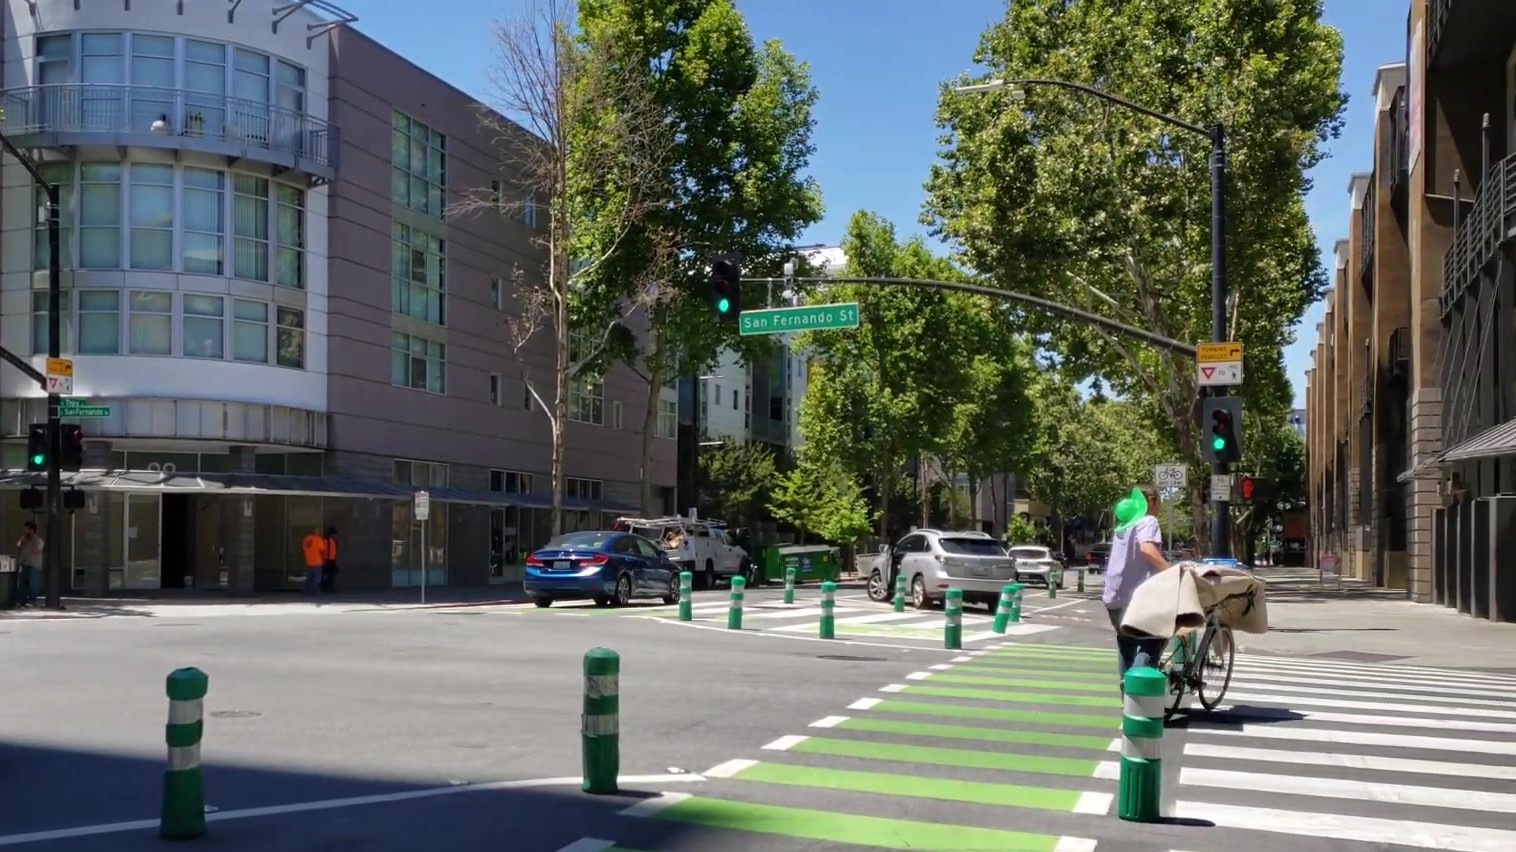vehicle_away: (521, 531, 680, 607)
